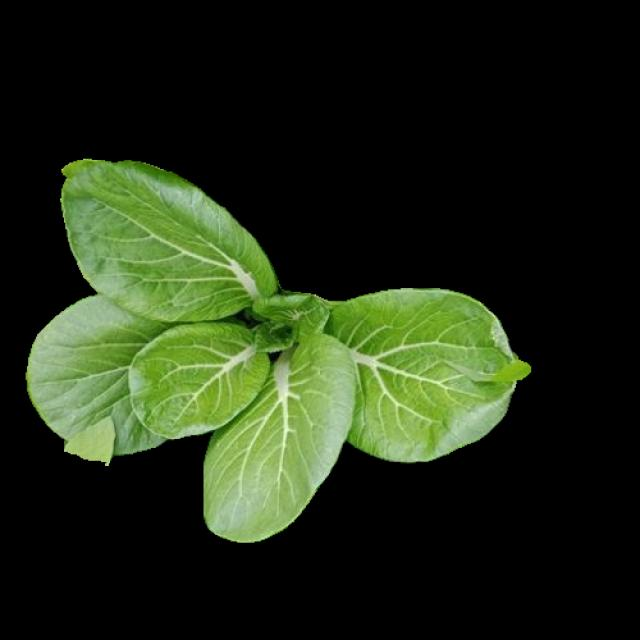healthy: (26, 153, 514, 538)
mature: (28, 156, 517, 540)
